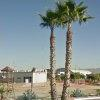Tree: (34, 0, 93, 40)
